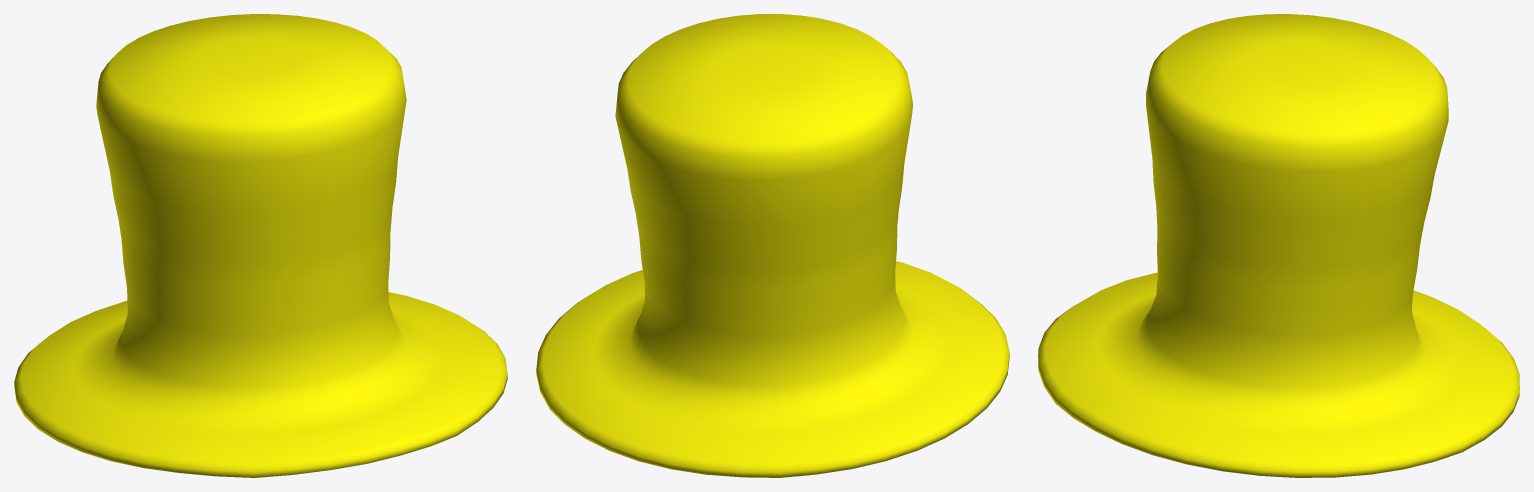
File: TopHat.fbx
3 views of the same model, side by side, from view 1: azimuth 30°, elevation 25°; view 2: azimuth 150°, elevation 25°; view 3: azimuth 270°, elevation 25° (orthographic). The views are drawn at different scales.
Parts seen in each view (by area): view 1: TopHat; view 2: TopHat; view 3: TopHat.
Part boxes in pixels (x1,y1,x2,y2): TopHat: (14,14,507,477); TopHat: (536,14,1009,477); TopHat: (1038,14,1519,477).
Bounding box in the file's own units: 615 × 467 × 615.
